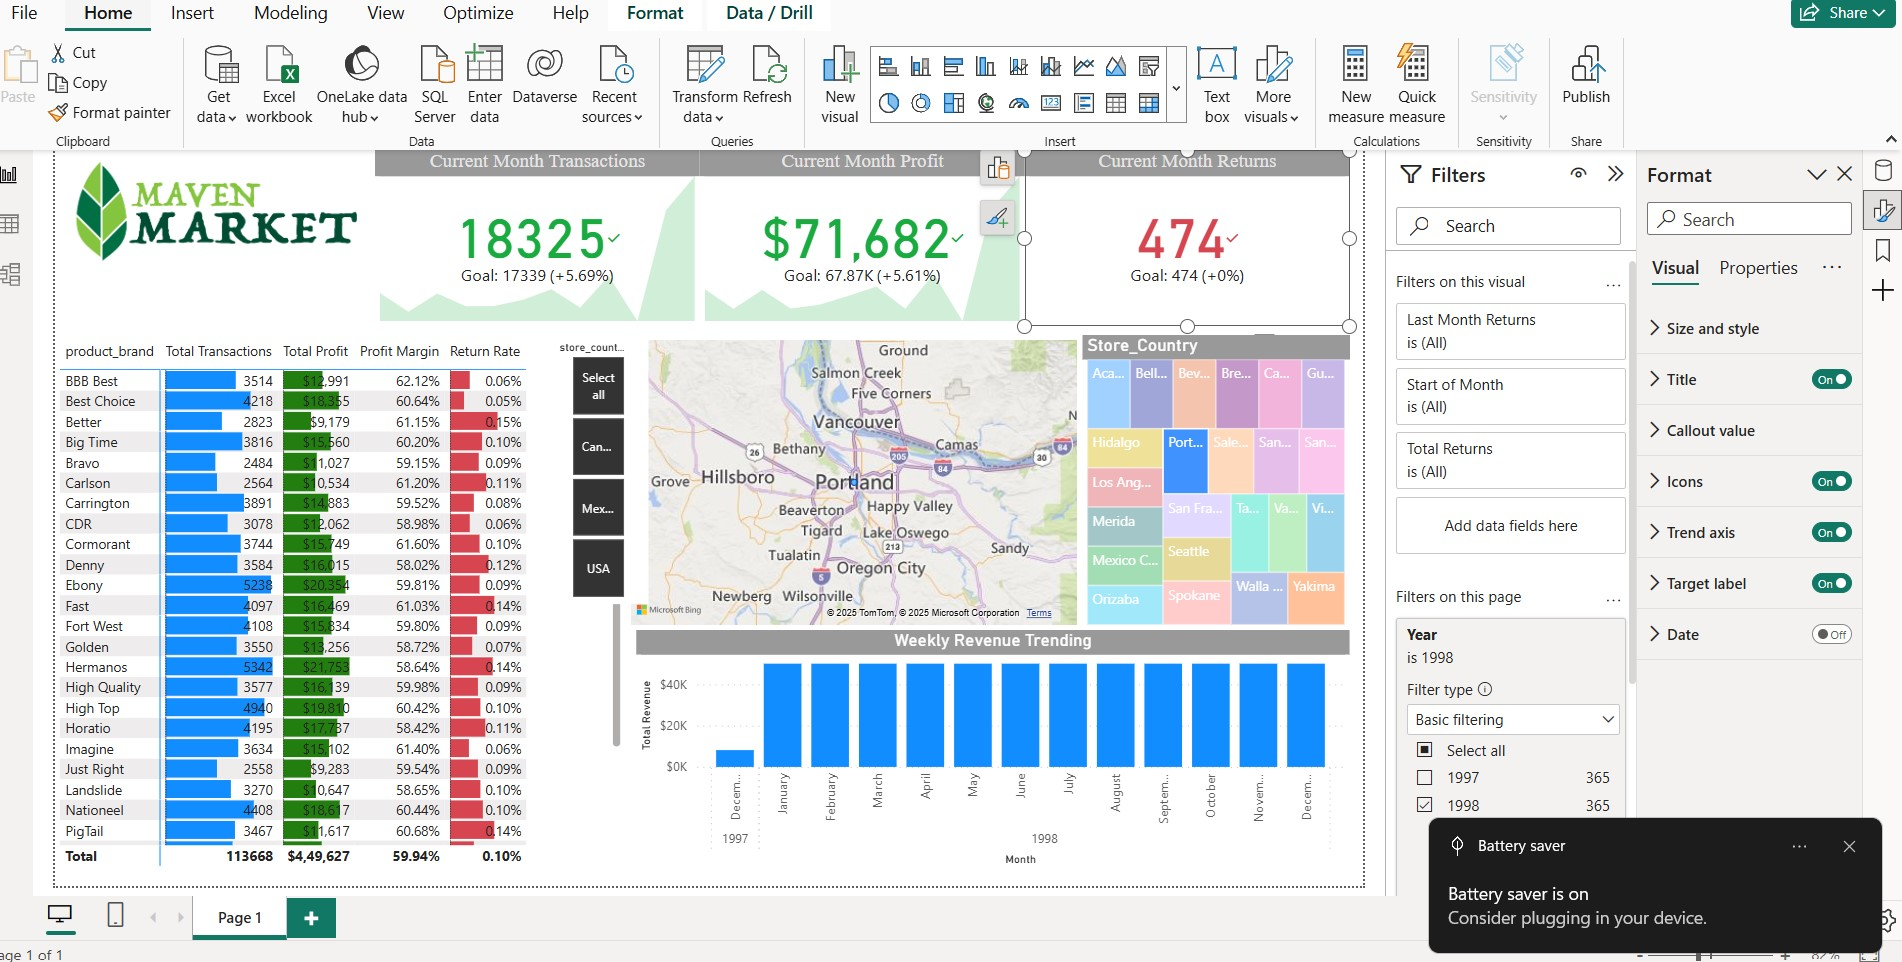

The page's visual inventory and layout, read from the dashboard file:
{"tool":"powerbi","page":{"name":"Page 1","canvas":[1280,720],"ordinal":0},"visuals":[{"type":"pivotTable","fields":{"Rows":["Products.product_brand"],"Values":["Products.Total Transactions","Transaction_Data.Total Profit","Transaction_Data.Profit Margin","Products.Return Rate"]},"box":[0,180.5,558.4,524.3],"z":0},{"type":"image","box":[0,0,313.3,119.2],"z":1000},{"type":"kpi","title":"Current Month Transactions","fields":{"Indicator":["Products.Total Transactions"],"TrendLine":["Calendar.Start of Month"],"Goal":["Transaction_Data.Last Month Transactions"]},"box":[312.9,0,317.8,172.4],"z":2000},{"type":"kpi","title":"Current Month Profit","fields":{"TrendLine":["Calendar.Start of Month"],"Indicator":["Transaction_Data.Total Profit"],"Goal":["Transaction_Data.Last Month Profit"]},"box":[630.8,0,317.8,172.4],"z":3000},{"type":"kpi","title":"Current Month Returns","fields":{"Indicator":["Products.Total Returns"],"Goal":["Transaction_Data.Last Month Returns"],"TrendLine":["Calendar.Start of Month"]},"box":[948.6,0,317.8,172.4],"z":4000},{"type":"map","fields":{"Category":["Stores.store_city"]},"box":[558.6,180.9,446.2,288.5],"z":5000},{"type":"slicer","fields":{"Values":["Stores.store_country"]},"box":[480.4,180.9,100.2,262.8],"z":6000},{"type":"treemap","title":"Store_Country","fields":{"Group":["Stores.store_country","Stores.store_state","Stores.store_city"],"Values":["Products.Total Transactions"]},"box":[1004.8,180.9,261.6,288.5],"z":7000},{"type":"clusteredColumnChart","title":"Weekly Revenue Trending","fields":{"Y":["Transaction_Data.Total Revenue"],"Category":["Calendar.Start of Week.Variation.Date Hierarchy.Year","Calendar.Start of Week.Variation.Date Hierarchy.Month"]},"box":[568.4,468.9,697.7,235.9],"z":8000}]}

Visuals, with their boxes on the page's 1280x720 design canvas (x1, y1, x2, y2). These are canvas units, not pixel positions in the 1902x962 screenshot, which may show the page scaled, cropped or inside an application window:
pivotTable - Products.product_brand x Products.Total Transactions: rect(0, 180, 558, 705)
image: rect(0, 0, 313, 119)
"Current Month Transactions" kpi: rect(313, 0, 631, 172)
"Current Month Profit" kpi: rect(631, 0, 949, 172)
"Current Month Returns" kpi: rect(949, 0, 1266, 172)
map - Stores.store_city: rect(559, 181, 1005, 469)
slicer - Stores.store_country: rect(480, 181, 581, 444)
"Store_Country" treemap: rect(1005, 181, 1266, 469)
"Weekly Revenue Trending" clusteredColumnChart: rect(568, 469, 1266, 705)
